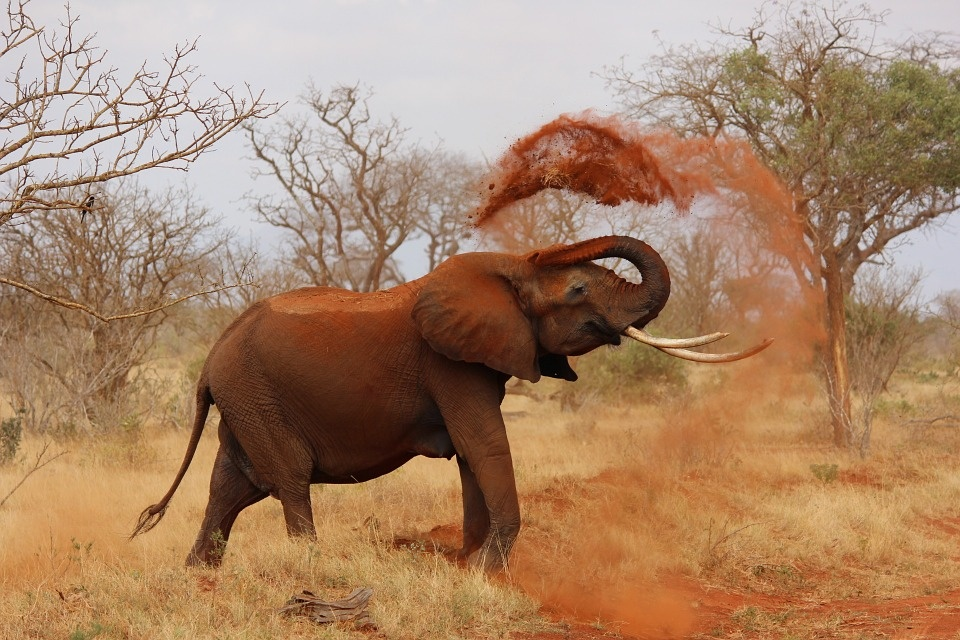elephant: (146, 232, 772, 588)
